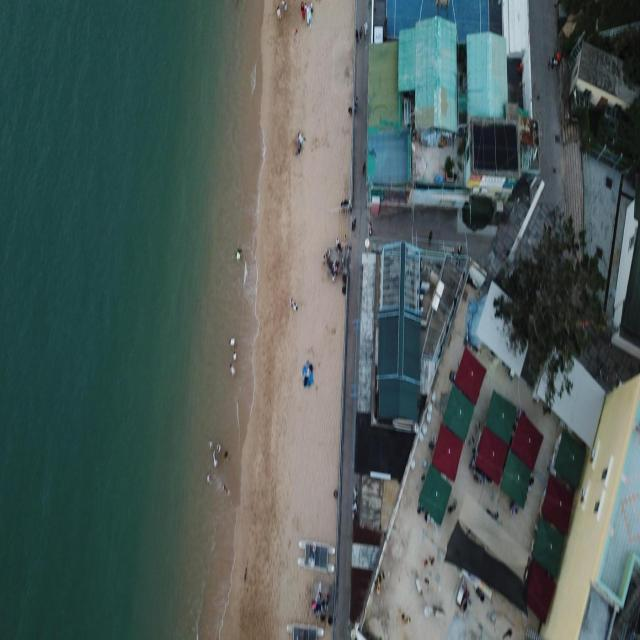person: (297, 130, 303, 154)
tree: (492, 202, 609, 415)
